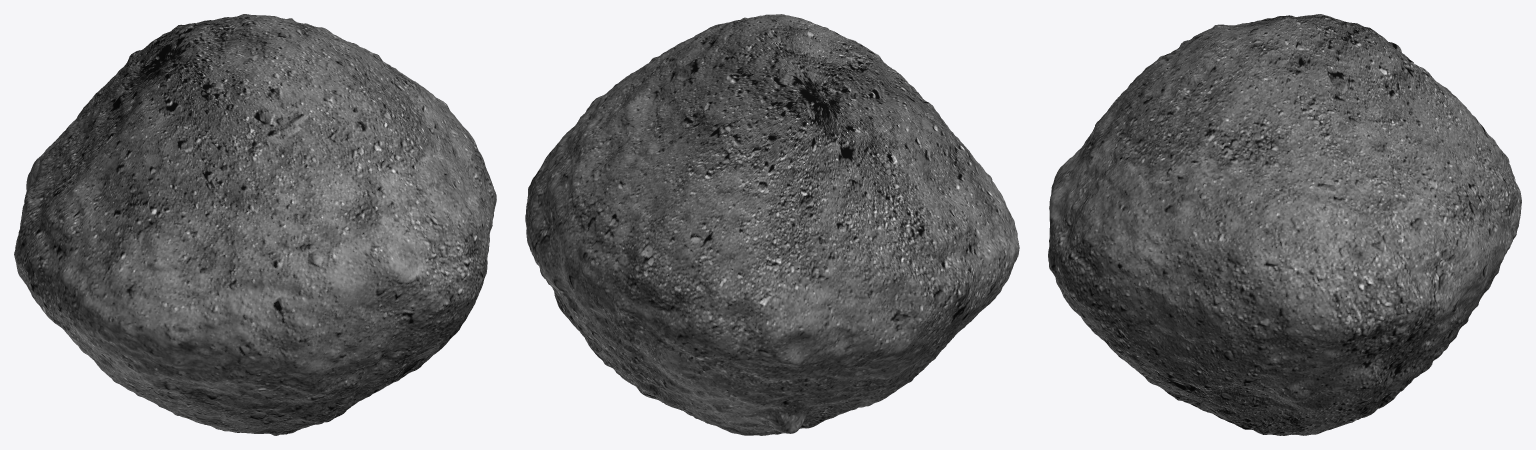
Rendered from asteroid-optimized.glb.
3 renders of one model, left to right at view 1: azimuth 30°, elevation 25°; view 2: azimuth 150°, elevation 25°; view 3: azimuth 270°, elevation 25°, orthographic.
Visible parts, largest first — view 1: Object_4; view 2: Object_4; view 3: Object_4.
Part boxes in pixels (<box>): Object_4: <box>14,14,496,435</box>; Object_4: <box>525,14,1019,435</box>; Object_4: <box>1048,14,1521,435</box>.
Size of the model in its own units: 0.5629 by 0.4978 by 0.5355.
Materials: 1 (1 with a texture image).
